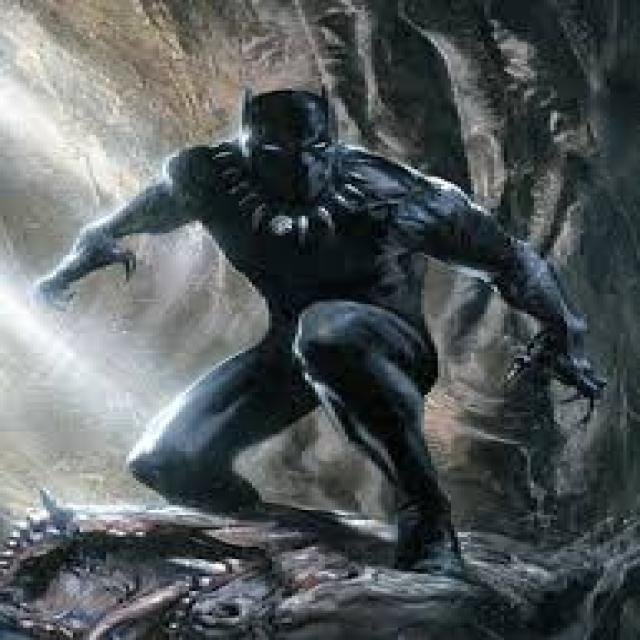black panther: (3, 2, 630, 640)
